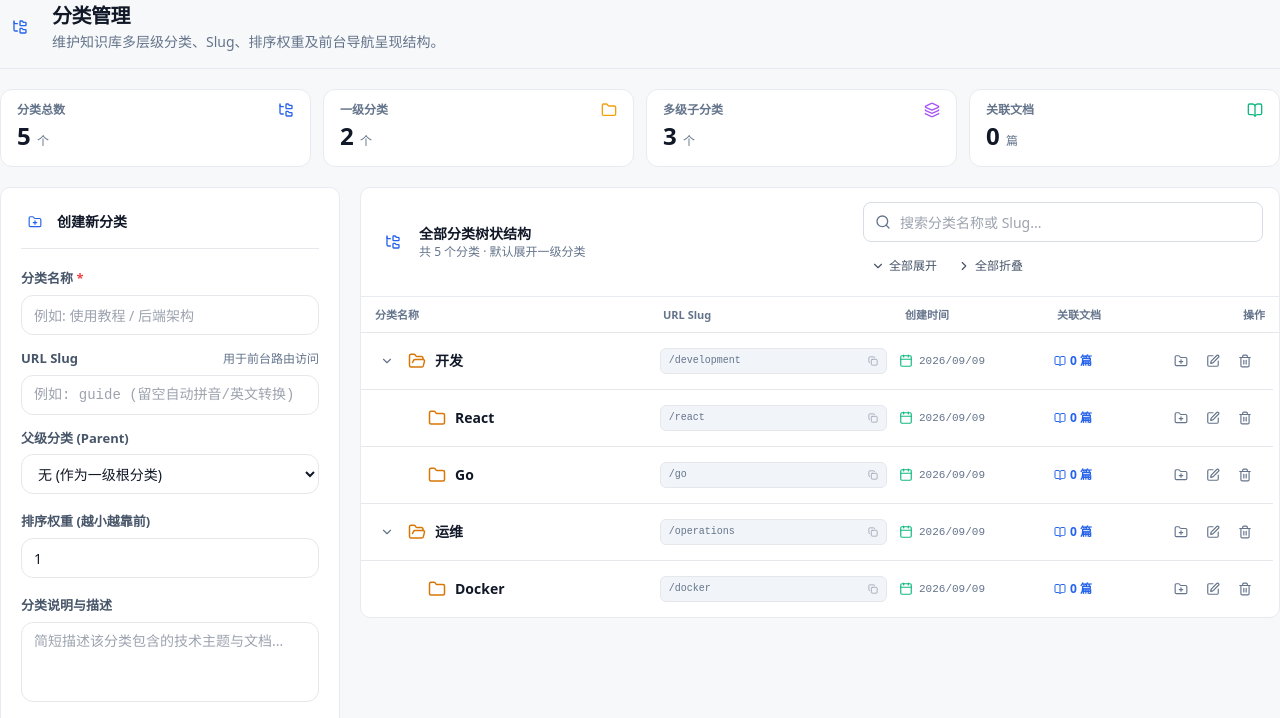
Test: AdminCategoryManager category data refresh › refetches the complete tree after create instead of replacing it with the create response
The width and height of the screenshot is (1280, 718).
Expected: the text "开发" is shown, [435,351,463,371]
Type "Python" into the field labelled "分类名称 *".
click(170, 315); type("Python")  # box [21,295,319,335]
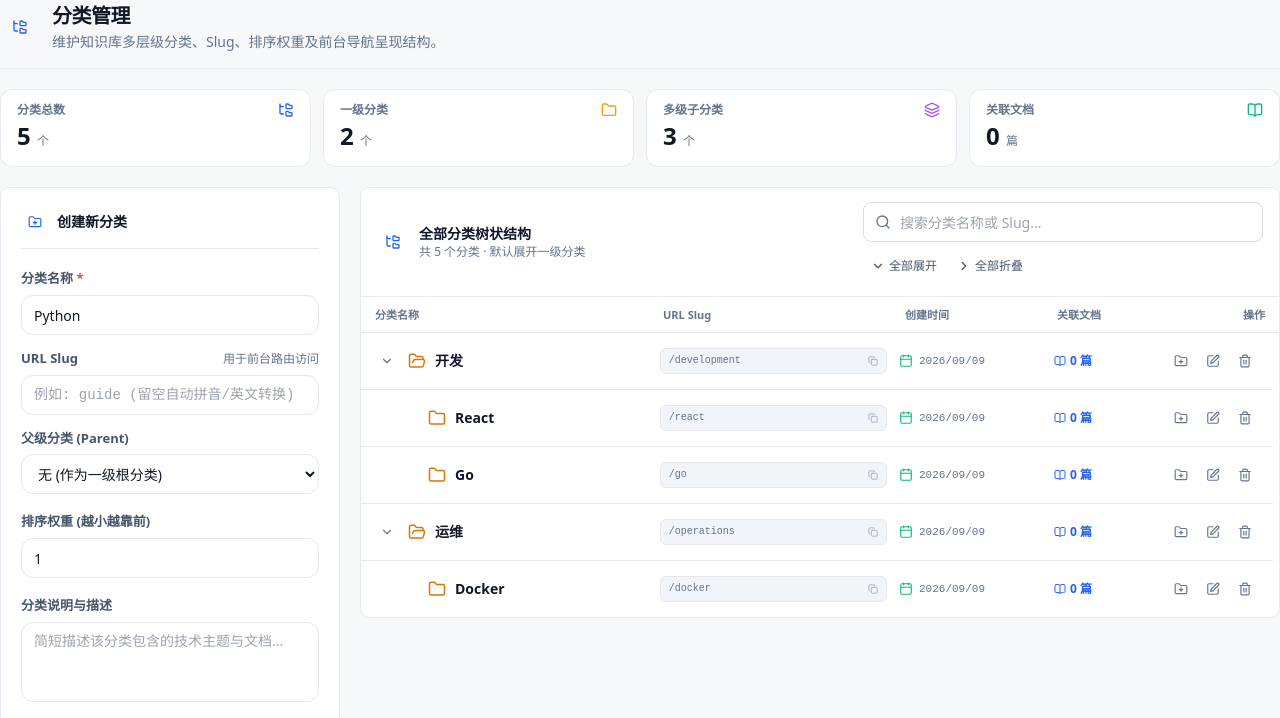
Type "python" into the field labelled "URL Slug".
click(170, 394); type("python")  # box [21,374,319,414]
(page scrolled)
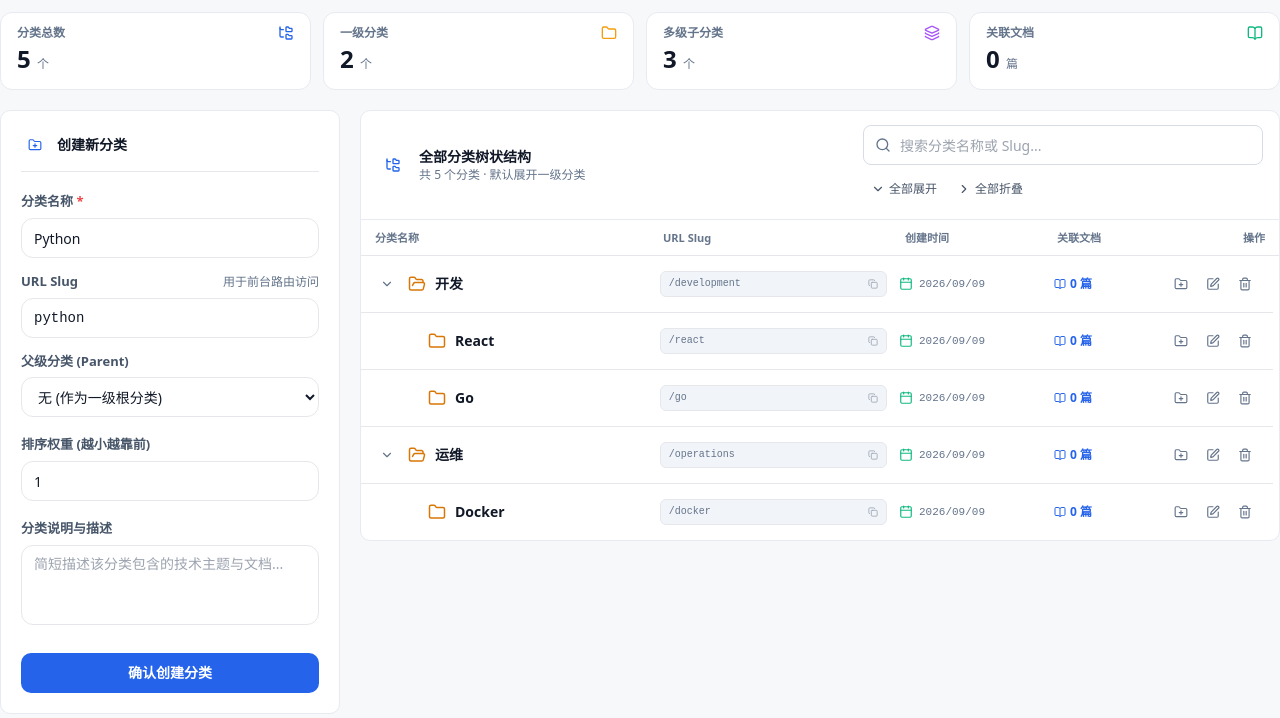
Click the button "确认创建分类".
click(170, 673)  # box [21,653,319,693]
(page scrolled)
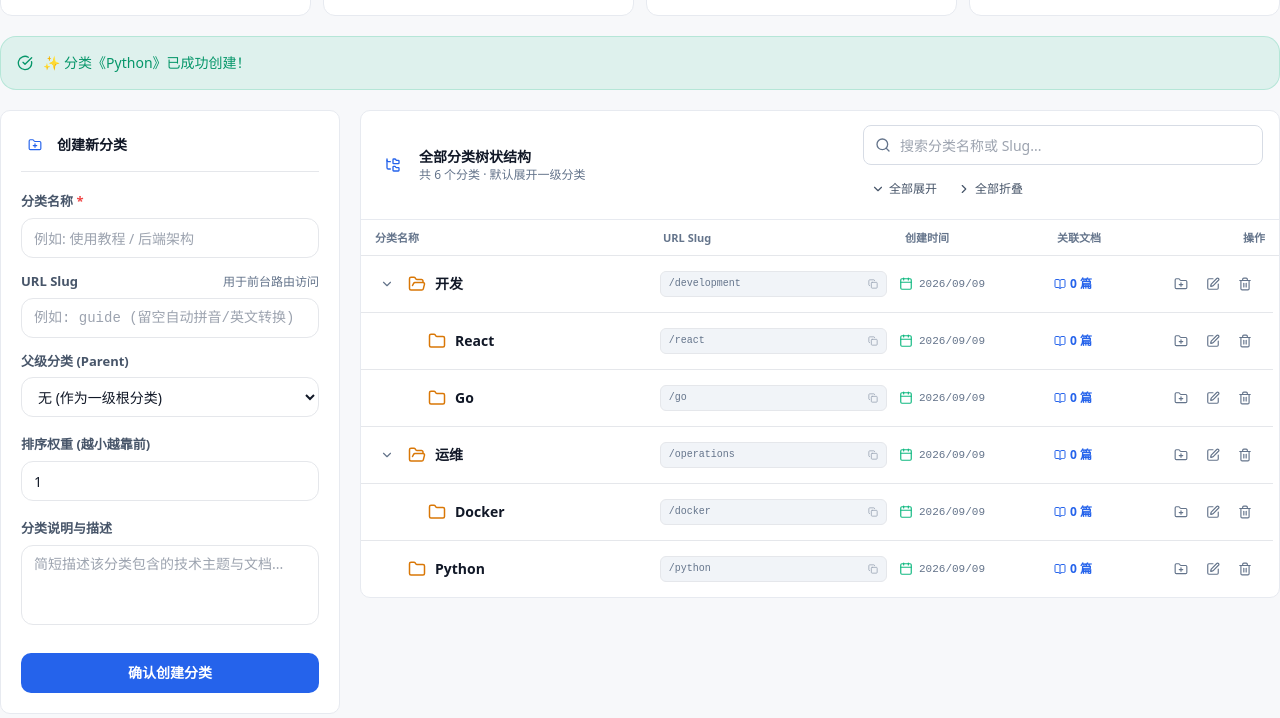
Expected: the text "开发" is shown, [435,274,463,294]
Expected: the text "Python" is shown, [435,559,485,579]
Expected: the text "共 6 个分类 · 默认展开一级分类" is shown, [419,167,586,183]
